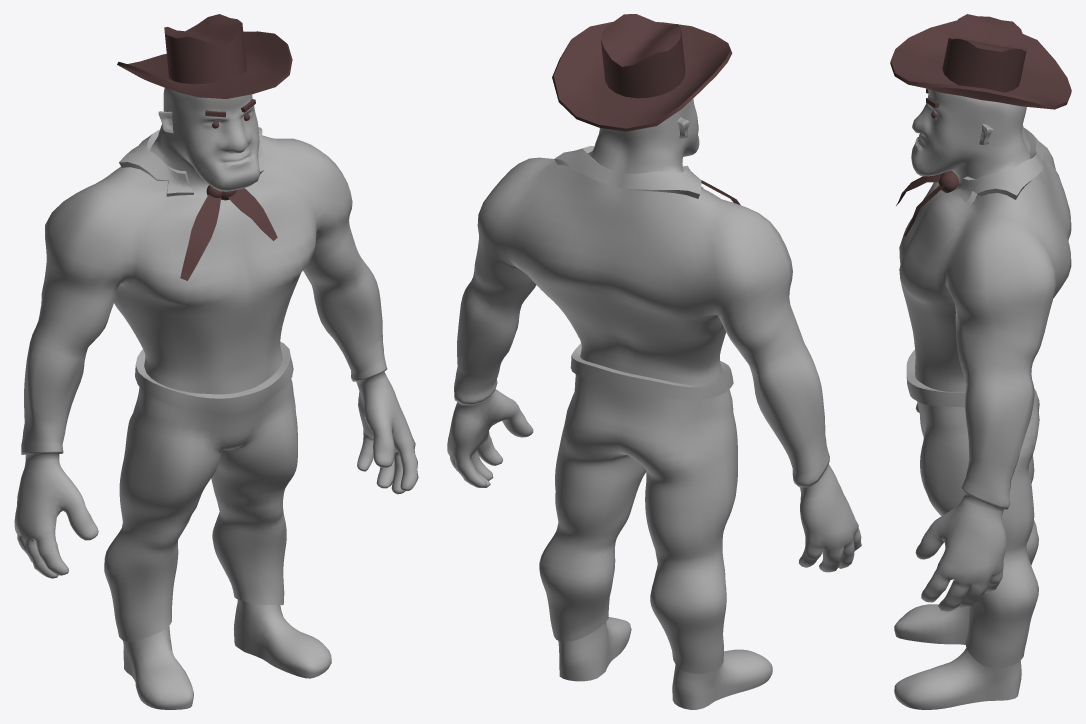
Rendered from HunkForPaint.fbx.
3 views of the same model, side by side, from view 1: azimuth 30°, elevation 25°; view 2: azimuth 150°, elevation 25°; view 3: azimuth 270°, elevation 25° (orthographic). The views are drawn at different scales.
Visible parts, largest first — view 1: humanBody_2, pCylinder1, pPlane1, pPlane2; view 2: humanBody_2, pCylinder1; view 3: humanBody_2, pCylinder1, pSphere3, pPlane1.
Boxes of the visible parts, box(x1,y1,x2,y2) form: humanBody_2: box(14, 88, 418, 709); pCylinder1: box(117, 14, 292, 98); pPlane1: box(180, 194, 220, 280); pPlane2: box(228, 188, 277, 240); humanBody_2: box(447, 98, 861, 709); pCylinder1: box(552, 14, 732, 131); humanBody_2: box(894, 89, 1071, 709); pCylinder1: box(890, 14, 1071, 109); pSphere3: box(938, 171, 958, 192); pPlane1: box(896, 173, 942, 205).
Size of the model in its own units: 3.28 by 5.16 by 1.33.
